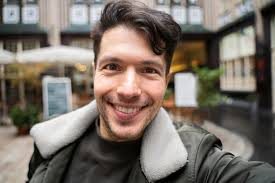Human_Male: (76, 3, 184, 183)
